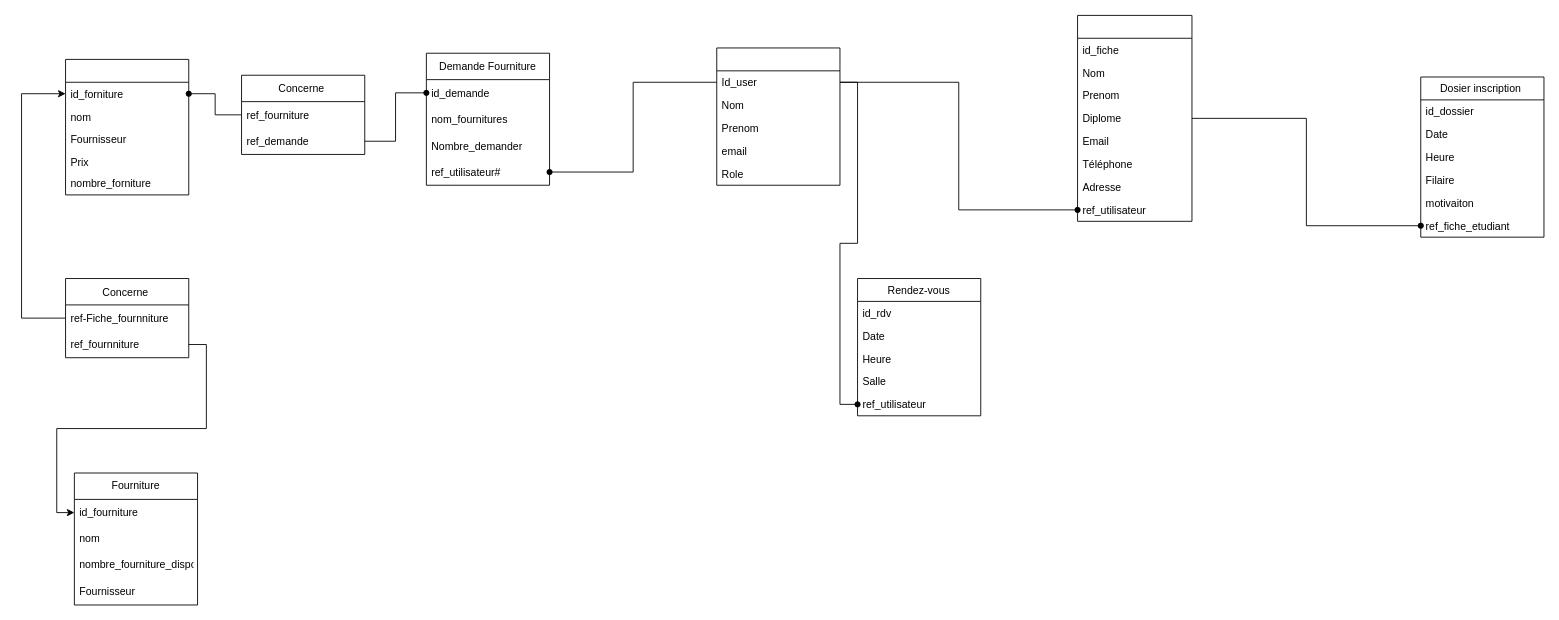
This 1559x620 diagram has some shape labels left out. The box of each missing label's shape, as (x1, y1, x2, y2) in pixels:
Fiche etudiant: (1077, 15, 1192, 221)
Fiche_fourniture: (65, 59, 189, 195)
Utilisateur: (716, 47, 840, 185)
